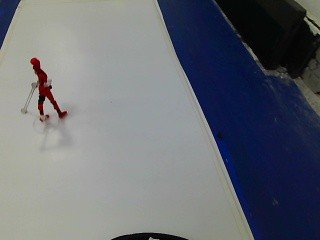pedestrian: (20, 53, 77, 126)
